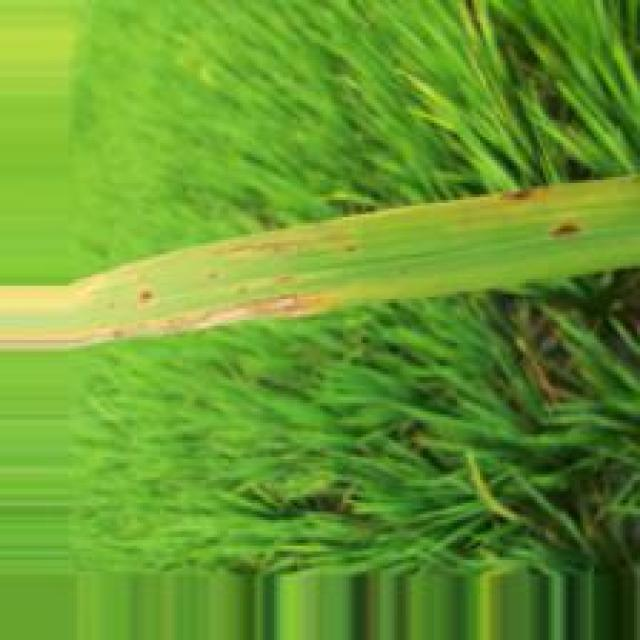Rice Tungro: (0, 292, 343, 352), (491, 187, 555, 208), (546, 220, 584, 242)
